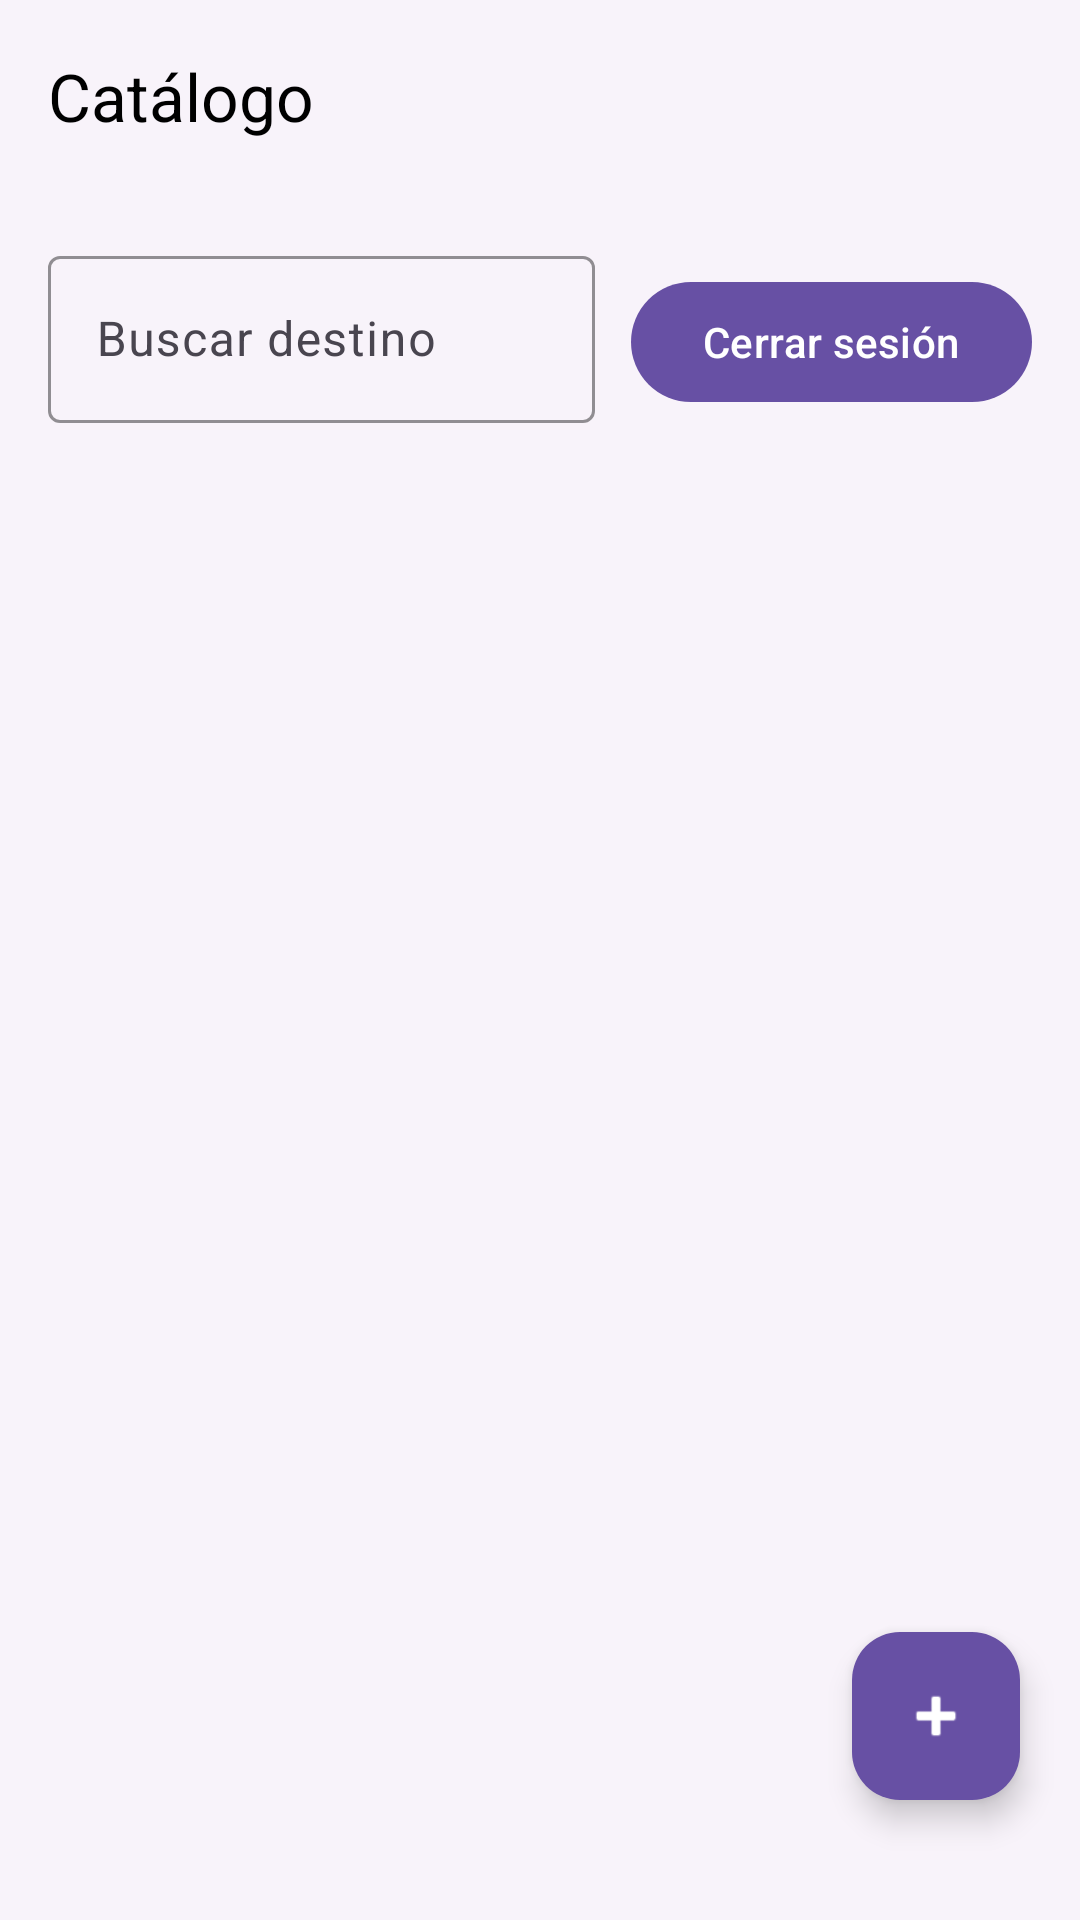

Icon bounding boxes for this 1080×1920 phone screenshot, format (x1, y1, x2, y2):
Agregar destino: (852, 1632, 1020, 1800)
